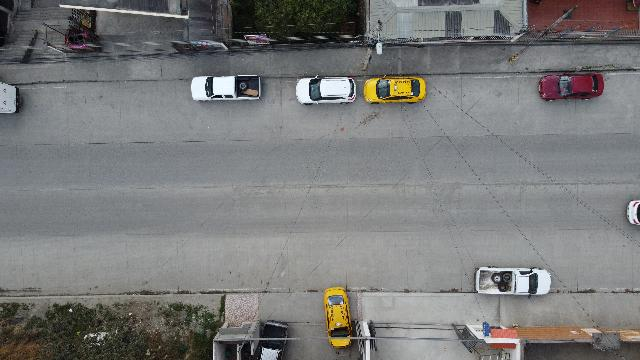Vehiculo: (474, 265, 551, 298), (190, 75, 262, 101), (538, 73, 604, 101), (323, 286, 352, 348), (296, 77, 356, 105), (364, 76, 426, 103)
